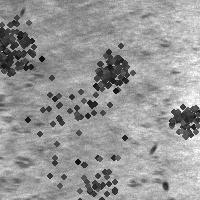rolled-in_scale: (6, 51, 124, 169), (125, 11, 178, 192), (28, 125, 140, 200), (1, 50, 55, 197), (0, 6, 49, 94), (79, 41, 135, 97), (0, 3, 36, 73), (161, 96, 200, 138)
